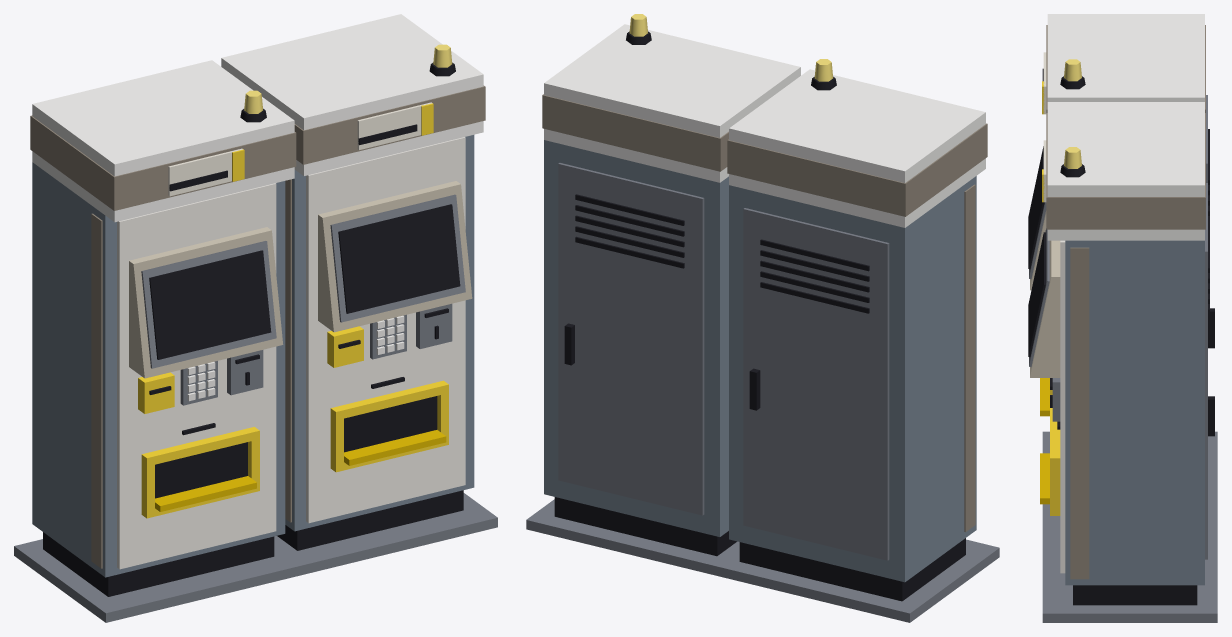
Rendered from subway-ticket-machines.glb.
The picture shows the model from 3 angles, left to right: view 1: azimuth 30°, elevation 25°; view 2: azimuth 150°, elevation 25°; view 3: azimuth 270°, elevation 25°; orthographic projection. The views are drawn at different scales.
Parts seen in each view (by area): view 1: body_tile_white, body_steel, header_tile_white_light, screen_soot_black, plinth_mid_grey, header_line_colour, screen_tile_white_dark, plinth_soot_black, tray_soot_black, tray_safety_yellow, body_line_colour, screen_mid_grey (+8 smaller); view 2: body_mid_grey, body_steel, header_tile_white_light, header_line_colour, plinth_mid_grey, plinth_soot_black, body_soot_black, body_line_colour, lamp_safety_yellow_light; view 3: body_steel, header_tile_white_light, plinth_mid_grey, body_line_colour, header_line_colour, screen_tile_white_dark, plinth_soot_black, screen_soot_black, body_tile_white, body_mid_grey, tray_safety_yellow, body_soot_black (+6 smaller).
Boxes of the visible parts, x1,y1,x2,y2 form: body_tile_white: [117, 137, 465, 569]; body_steel: [32, 135, 474, 577]; header_tile_white_light: [32, 14, 483, 222]; screen_soot_black: [149, 204, 460, 359]; plinth_mid_grey: [14, 493, 497, 622]; header_line_colour: [30, 85, 485, 210]; screen_tile_white_dark: [129, 181, 472, 378]; plinth_soot_black: [43, 490, 463, 596]; tray_soot_black: [155, 377, 437, 498]; tray_safety_yellow: [141, 380, 448, 518]; body_line_colour: [91, 179, 291, 568]; screen_mid_grey: [141, 194, 465, 368]; body_mid_grey: [558, 163, 889, 560]; body_steel: [544, 140, 976, 582]; header_tile_white_light: [544, 24, 985, 227]; header_line_colour: [542, 94, 987, 216]; plinth_mid_grey: [526, 499, 999, 622]; plinth_soot_black: [554, 497, 965, 601]; body_soot_black: [564, 194, 869, 410]; body_line_colour: [964, 184, 975, 532]; lamp_safety_yellow_light: [629, 14, 833, 81]; body_steel: [1065, 240, 1204, 585]; header_tile_white_light: [1047, 14, 1204, 240]; plinth_mid_grey: [1042, 431, 1217, 622]; body_line_colour: [1070, 247, 1089, 579]; header_line_colour: [1046, 25, 1205, 229]; screen_tile_white_dark: [1030, 211, 1060, 377]; plinth_soot_black: [1073, 585, 1197, 605]; screen_soot_black: [1028, 146, 1045, 357]; body_tile_white: [1060, 240, 1065, 573]; body_mid_grey: [1205, 95, 1207, 559]; tray_safety_yellow: [1050, 390, 1060, 515]; body_soot_black: [1208, 129, 1214, 436].
Bounding box in the file's own units: 1.7 × 1.98 × 0.7455.
